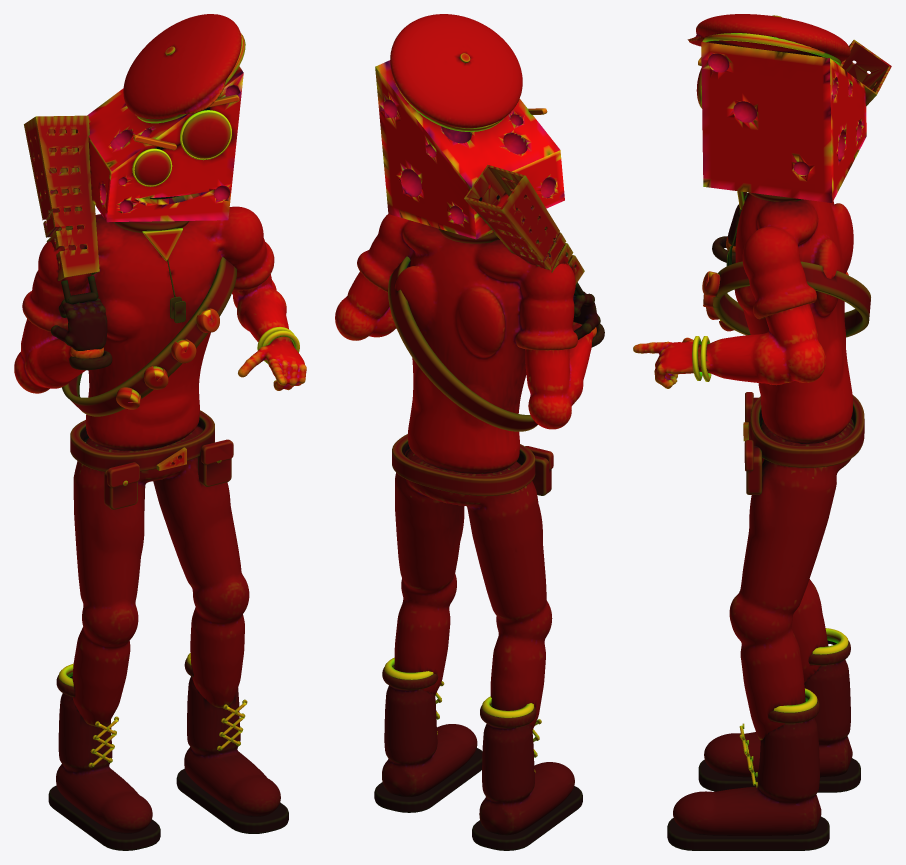
The model's file is cheeseman.packed.glb.
The picture shows the model from 3 angles, left to right: view 1: azimuth 30°, elevation 25°; view 2: azimuth 150°, elevation 25°; view 3: azimuth 270°, elevation 25°; orthographic projection. The views are drawn at different scales.
Visible parts, largest first — view 1: base, domes; view 2: base; view 3: base.
Part boxes in pixels (left/top/right/bottom): base: left=14, top=14, right=306, bottom=850; domes: left=134, top=112, right=230, bottom=185; base: left=335, top=14, right=604, bottom=850; base: left=633, top=14, right=891, bottom=850.
Bounding box in the file's own units: 0.6707 × 2.03 × 0.5818.
